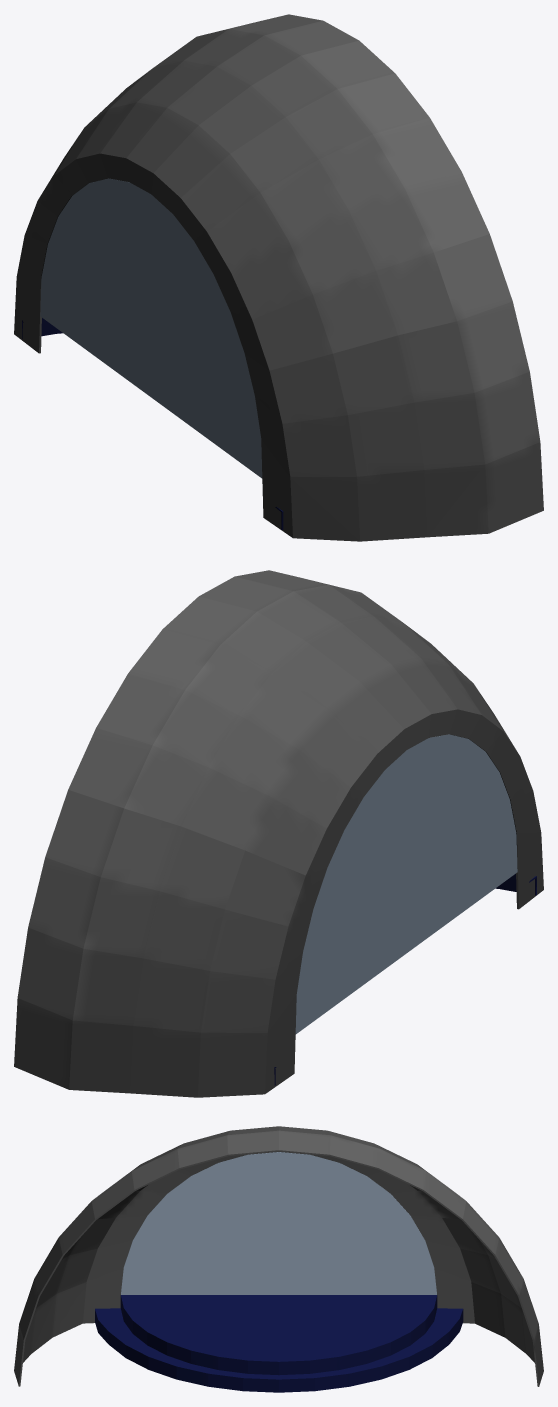
File: stage for club2.dae
The picture shows the model from 3 angles, top to bottom: view 1: azimuth 30°, elevation 25°; view 2: azimuth 150°, elevation 25°; view 3: azimuth 270°, elevation 25°; orthographic projection. The views are drawn at different scales.
Visible parts, largest first — view 1: Circle_002; view 2: Circle_002; view 3: Circle_002.
Part boxes in pixels (<box>): Circle_002: <box>14,14,543,541</box>; Circle_002: <box>14,570,543,1097</box>; Circle_002: <box>14,1126,543,1392</box>.
Size of the model in its own units: 1.08 by 3.35 by 1.7.
Materials: 1 (1 with a texture image).
